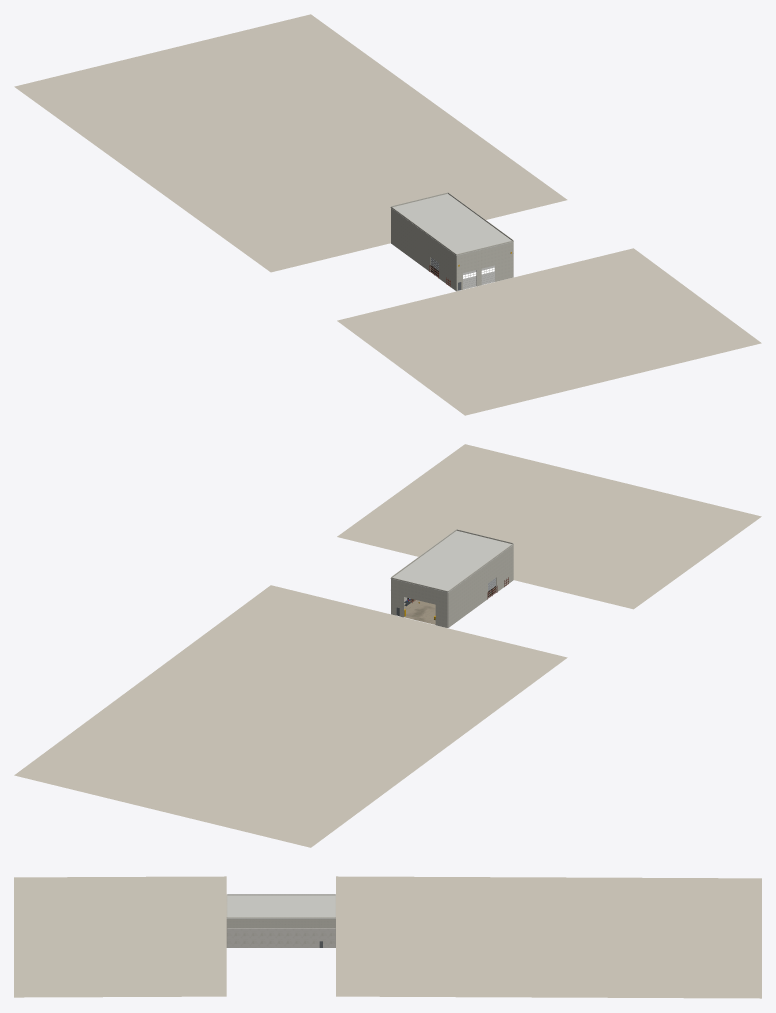
The model's file is world.glb.
3 renders of one model, top to bottom at view 1: azimuth 30°, elevation 25°; view 2: azimuth 150°, elevation 25°; view 3: azimuth 270°, elevation 25°, orthographic. The views are drawn at different scales.
Parts seen in each view (by area): view 1: Yard, YardSouth, Walls_Liner, RoofDeck; view 2: Yard, YardSouth, Walls_Liner, RoofDeck; view 3: Yard, YardSouth, RoofDeck, Wall_Block, Walls_Liner.
Part boxes in pixels (<box>): Yard: <box>14,14,567,272</box>; YardSouth: <box>337,248,761,415</box>; Walls_Liner: <box>391,192,513,291</box>; RoofDeck: <box>390,194,513,255</box>; Yard: <box>14,585,567,847</box>; YardSouth: <box>337,444,761,609</box>; Walls_Liner: <box>391,529,513,627</box>; RoofDeck: <box>390,530,513,592</box>; Yard: <box>336,876,761,998</box>; YardSouth: <box>14,876,226,997</box>; RoofDeck: <box>226,895,335,918</box>; Wall_Block: <box>227,928,335,947</box>; Walls_Liner: <box>226,894,335,947</box>.
Bounding box in the file's own units: 80 × 10.1 × 210.
Materials: 77 (26 with a texture image).
